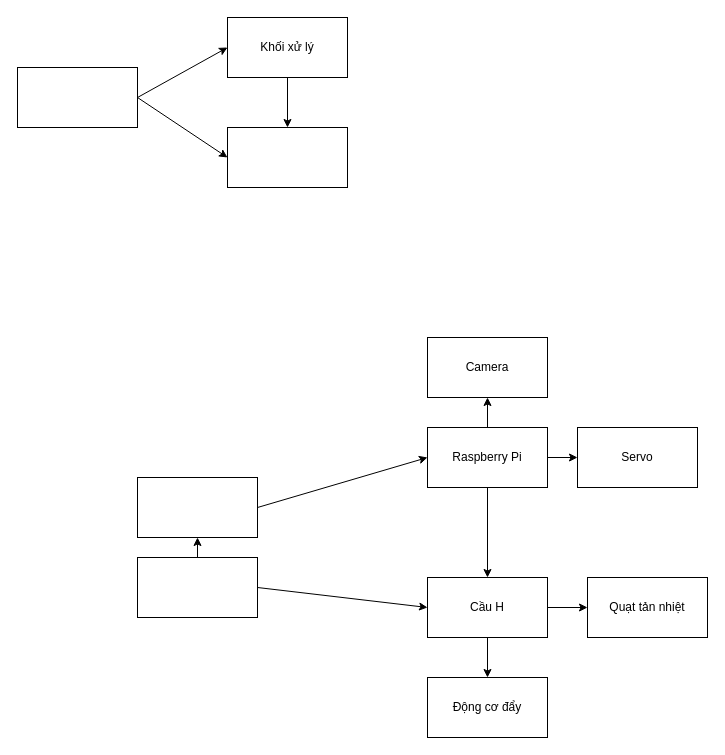
The diagram is 725 pixels wide and 755 high, and some of its shapes have lost their labels. The shapes that lost their labels are listed below. From the top down, each one's box as (x1, y1, x2, y2) in pixels, then its label:
(16, 66, 138, 128): Khối nguồn
(226, 126, 348, 188): Khối điều khiển
(136, 476, 258, 538): LM2596
(136, 556, 258, 618): Pack pin 3S
